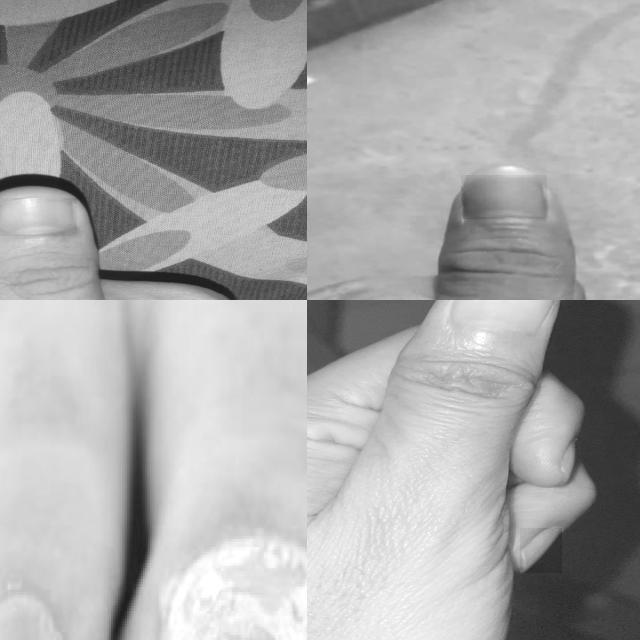diabetes: (164, 525, 307, 640), (461, 175, 547, 219), (0, 595, 60, 640)
sehat: (451, 300, 554, 334), (0, 199, 77, 236), (521, 528, 562, 573), (560, 439, 576, 478)
